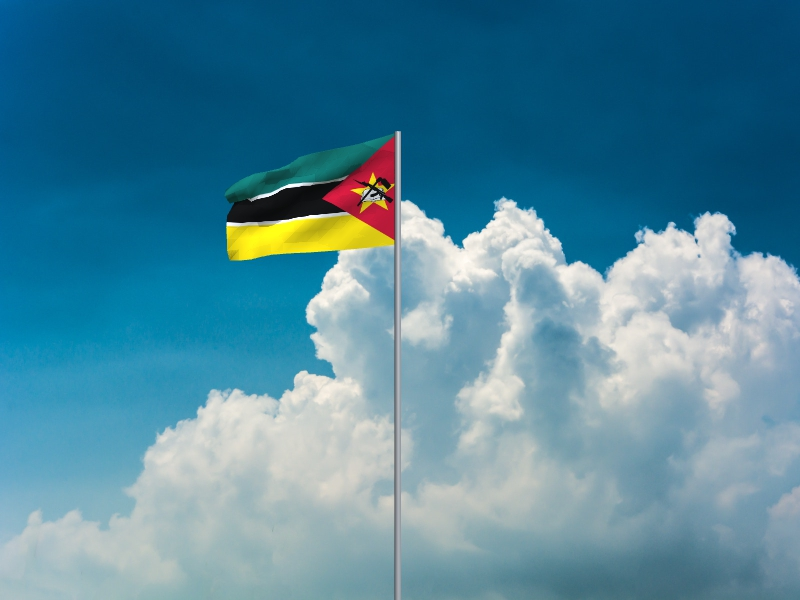mz: (224, 134, 395, 262)
